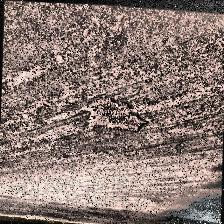pothole: (78, 92, 148, 136)
